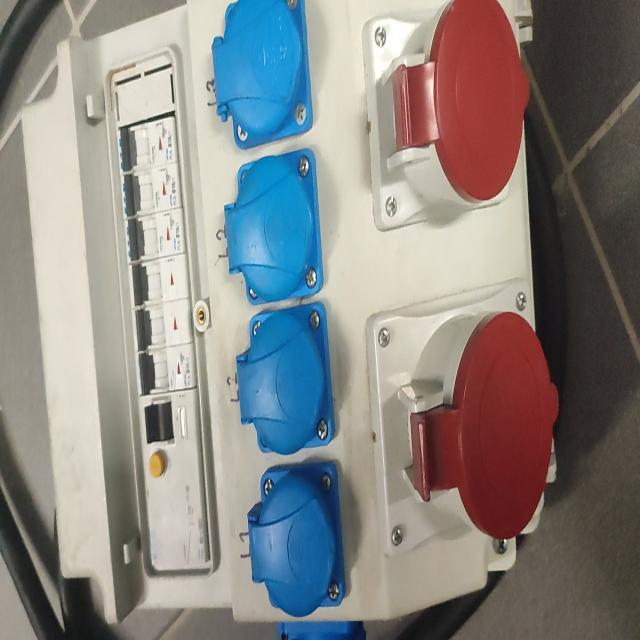400v socket: (365, 277, 560, 557), (362, 0, 530, 230)
house plug covered: (224, 148, 323, 304), (247, 461, 346, 617), (236, 302, 335, 455), (211, 0, 313, 148)
